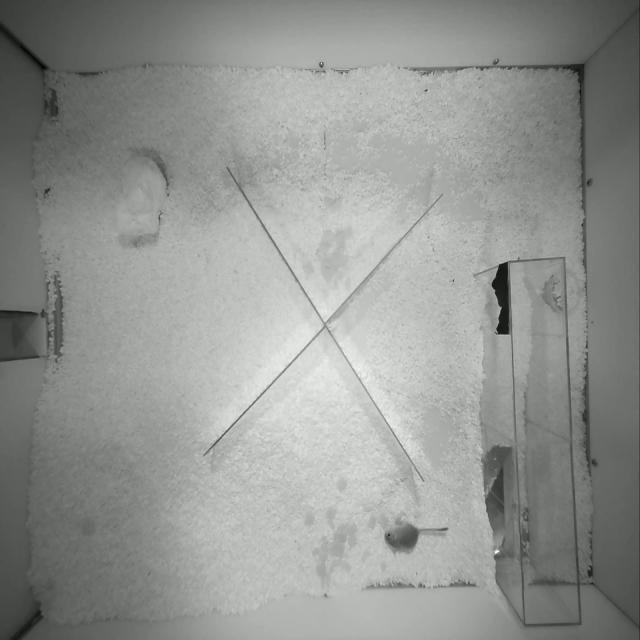pup_fluffy: (385, 522, 448, 550)
